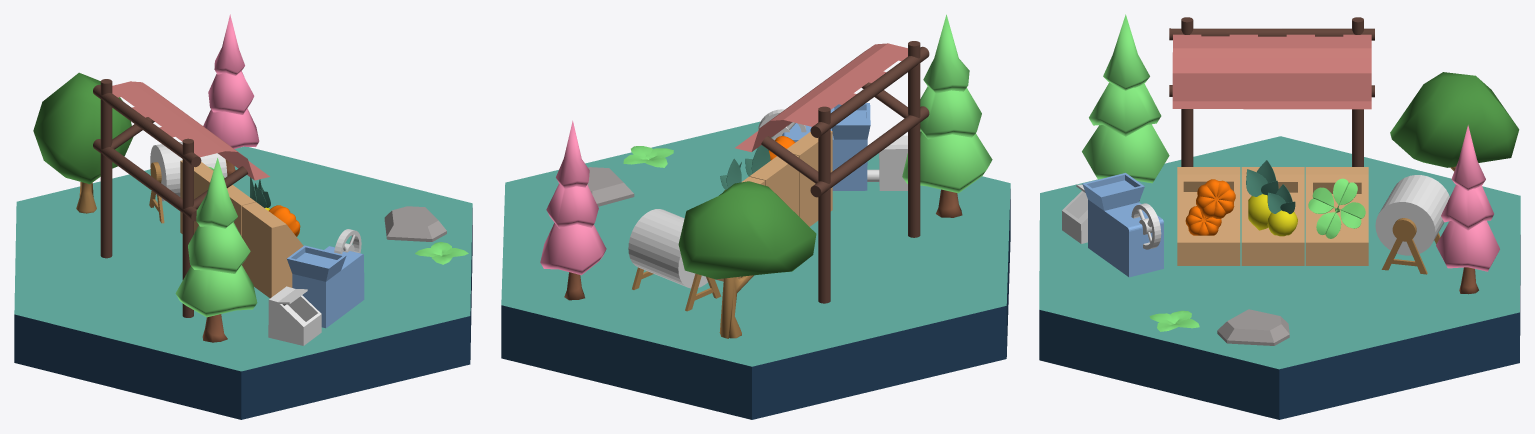
File: Macro - market lv1 wm3.fbx
3 renders of one model, left to right at view 1: azimuth 30°, elevation 25°; view 2: azimuth 150°, elevation 25°; view 3: azimuth 270°, elevation 25°, orthographic. The views are drawn at different scales.
Visible parts, largest first — view 1: Cylinder.154, Tree_Spruce_tiny_01.003, tree1 v:88 f:56, Cube.012, Tree_Spruce_tiny_01.008, Cube.140, Plane.112, Cube.011, Cylinder.039, Rock Type4 04 mesh.002, Cylinder.040, Cylinder.041 (+6 smaller); view 2: Cylinder.154, tree1 v:88 f:56, Tree_Spruce_tiny_01.003, Tree_Spruce_tiny_01.008, Plane.112, Cylinder, Cube.012, Cylinder.039, Cylinder.038, Cylinder.041, Cylinder.040, Cube.140 (+5 smaller); view 3: Cylinder.154, Plane.112, tree1 v:88 f:56, Tree_Spruce_tiny_01.003, Cube.012, Tree_Spruce_tiny_01.008, Cube.140, Cube.142, Cube.141, Cylinder, Rock Type4 04 mesh.002, Cylinder.040 (+14 smaller).
Part boxes in pixels (x1,y1,x2,y2): Cylinder.154: (14, 146, 472, 419); Tree_Spruce_tiny_01.003: (175, 158, 257, 342); tree1 v:88 f:56: (33, 72, 133, 213); Cube.012: (287, 245, 364, 328); Tree_Spruce_tiny_01.008: (203, 14, 259, 175); Cube.140: (241, 202, 303, 298); Plane.112: (112, 81, 269, 180); Cube.011: (268, 286, 321, 345); Cylinder.039: (100, 79, 112, 258); Rock Type4 04 mesh.002: (384, 206, 446, 241); Cylinder.040: (93, 85, 201, 167); Cylinder.041: (93, 139, 196, 221); Cylinder.154: (501, 121, 1010, 419); tree1 v:88 f:56: (678, 181, 816, 338); Tree_Spruce_tiny_01.003: (902, 14, 992, 217); Tree_Spruce_tiny_01.008: (540, 120, 606, 300); Plane.112: (735, 43, 907, 152); Cylinder: (628, 209, 707, 288); Cube.012: (782, 103, 870, 190); Cylinder.039: (818, 106, 830, 303); Cylinder.038: (908, 41, 920, 237); Cylinder.041: (810, 106, 929, 197); Cylinder.040: (810, 46, 929, 137); Cube.140: (787, 131, 832, 226); Cylinder.154: (1039, 136, 1520, 419); Plane.112: (1172, 34, 1371, 109); tree1 v:88 f:56: (1390, 72, 1519, 171); Tree_Spruce_tiny_01.003: (1082, 14, 1169, 200); Cube.012: (1082, 173, 1163, 277); Tree_Spruce_tiny_01.008: (1436, 125, 1499, 294); Cube.140: (1177, 167, 1240, 265); Cube.142: (1305, 167, 1368, 265); Cube.141: (1241, 167, 1304, 265); Cylinder: (1375, 175, 1449, 255); Rock Type4 04 mesh.002: (1217, 309, 1289, 345); Cylinder.040: (1169, 28, 1374, 40).
Bounding box in the file's own units: 197 × 94.23 × 172.
